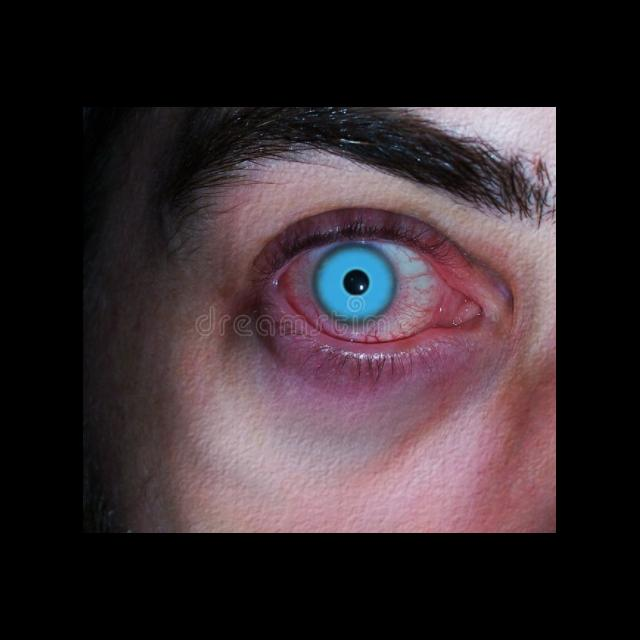eye: (281, 237, 451, 345)
iris: (316, 244, 397, 324)
